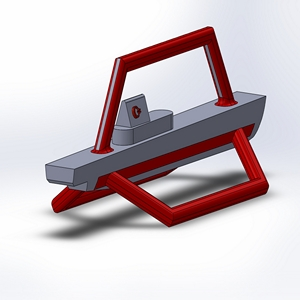submarine: (32, 23, 289, 240)
